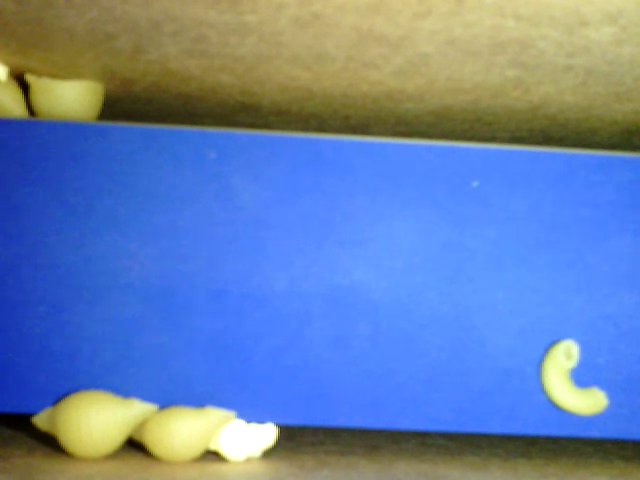elbow: (538, 337, 614, 416)
shell: (28, 388, 158, 459), (133, 397, 236, 464), (29, 73, 107, 125)
